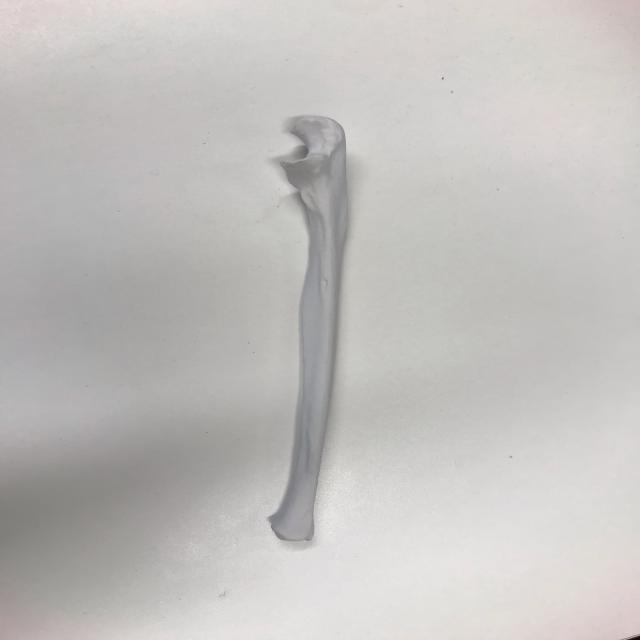bone: (262, 112, 356, 548)
